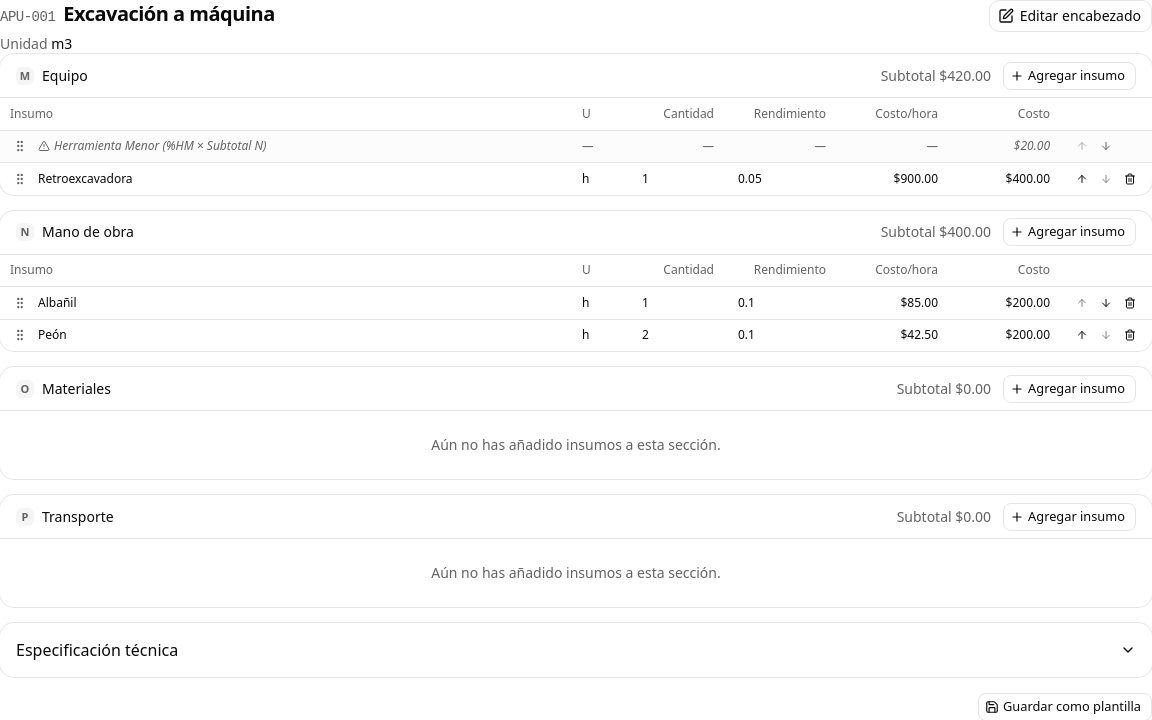
Test case: EditorApuPage › Guardar como plantilla está habilitado y abre el diálogo
Click the button "Guardar como plantilla" at (1065, 707), box [978,693,1151,719]
(page scrolled)
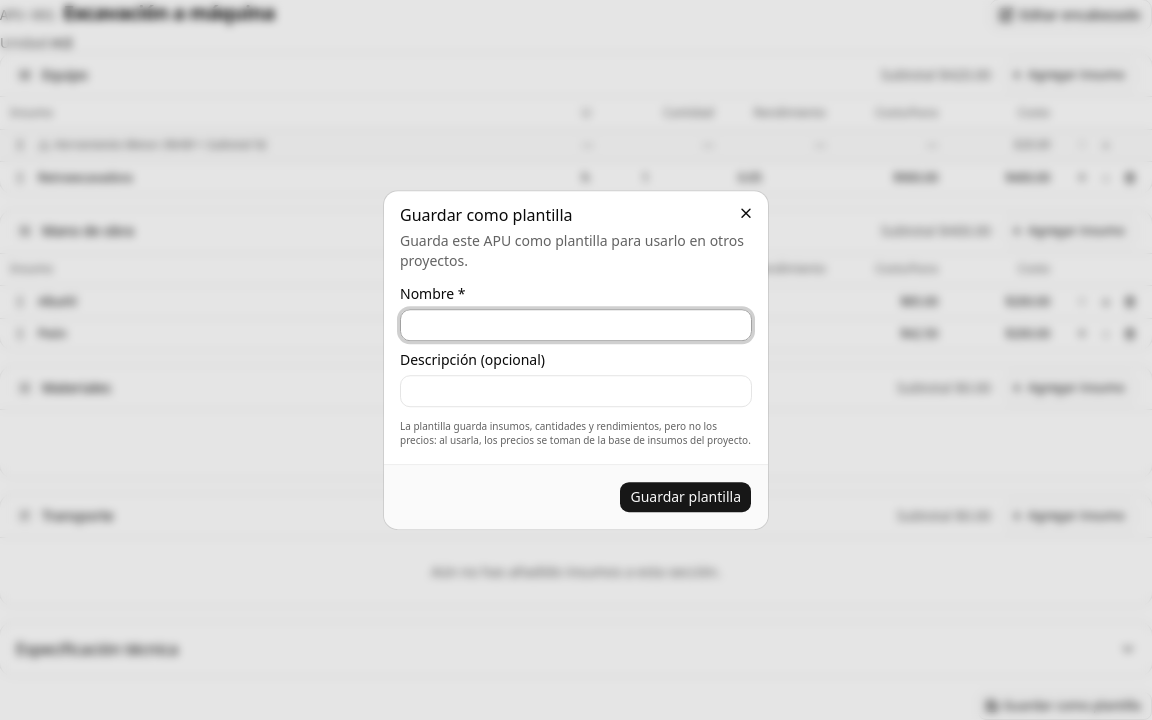
Now the field labelled "Nombre *" is shown, box [400,309,752,341]
